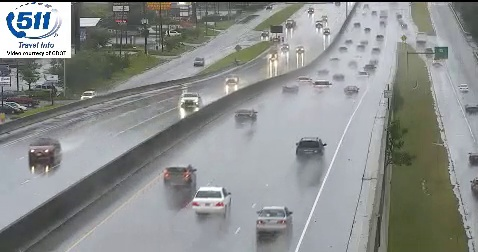car: (193, 187, 232, 213), (255, 205, 291, 233), (164, 165, 195, 188), (297, 138, 325, 158)
